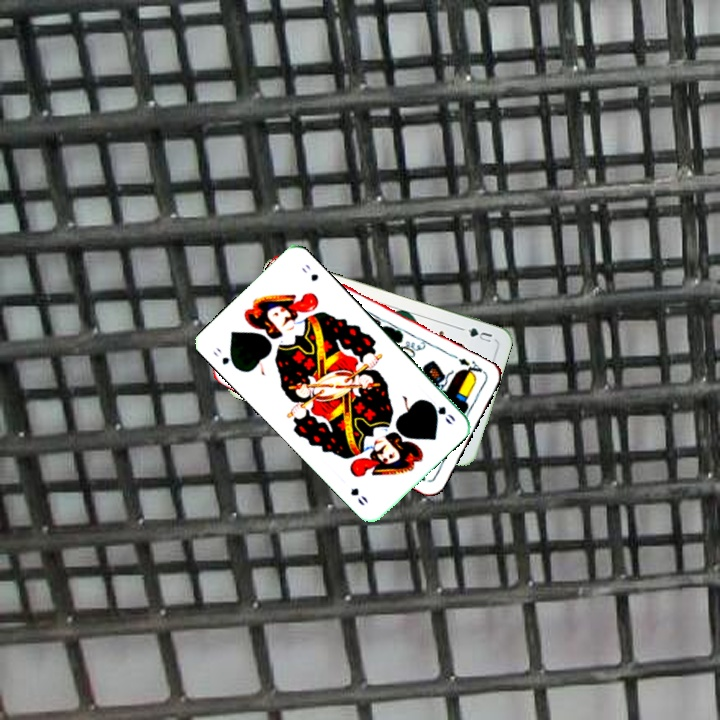EA: (454, 354, 488, 380)
GO: (423, 396, 458, 427), (209, 343, 241, 372)
GU: (457, 324, 495, 345)
